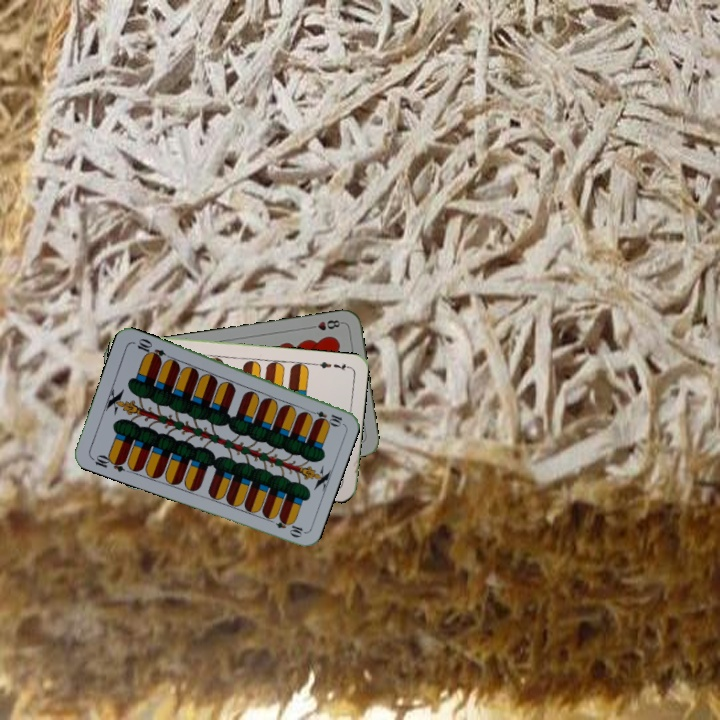E10: (87, 450, 128, 475), (304, 406, 345, 428)
E7: (312, 358, 352, 373)
H8: (305, 316, 345, 333)
